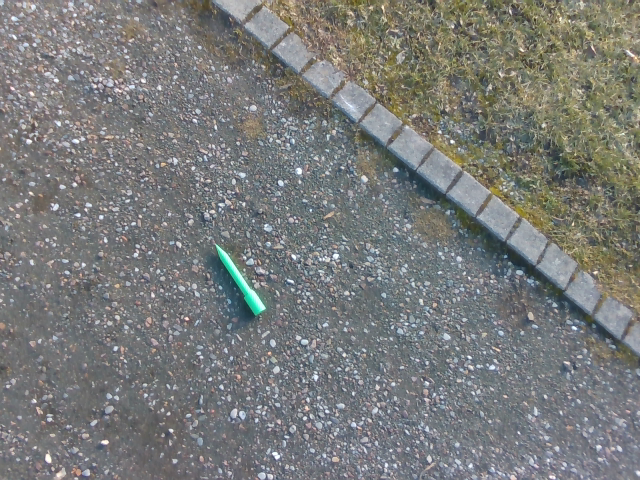Probe: (209, 237, 270, 322)
